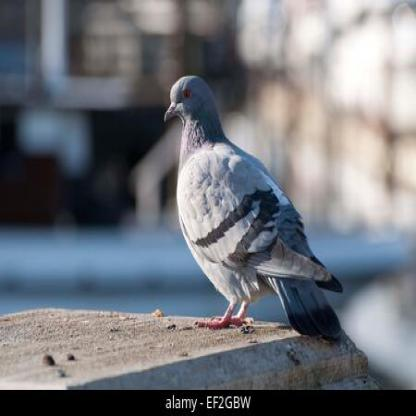Flying Rat: (164, 71, 332, 354)
